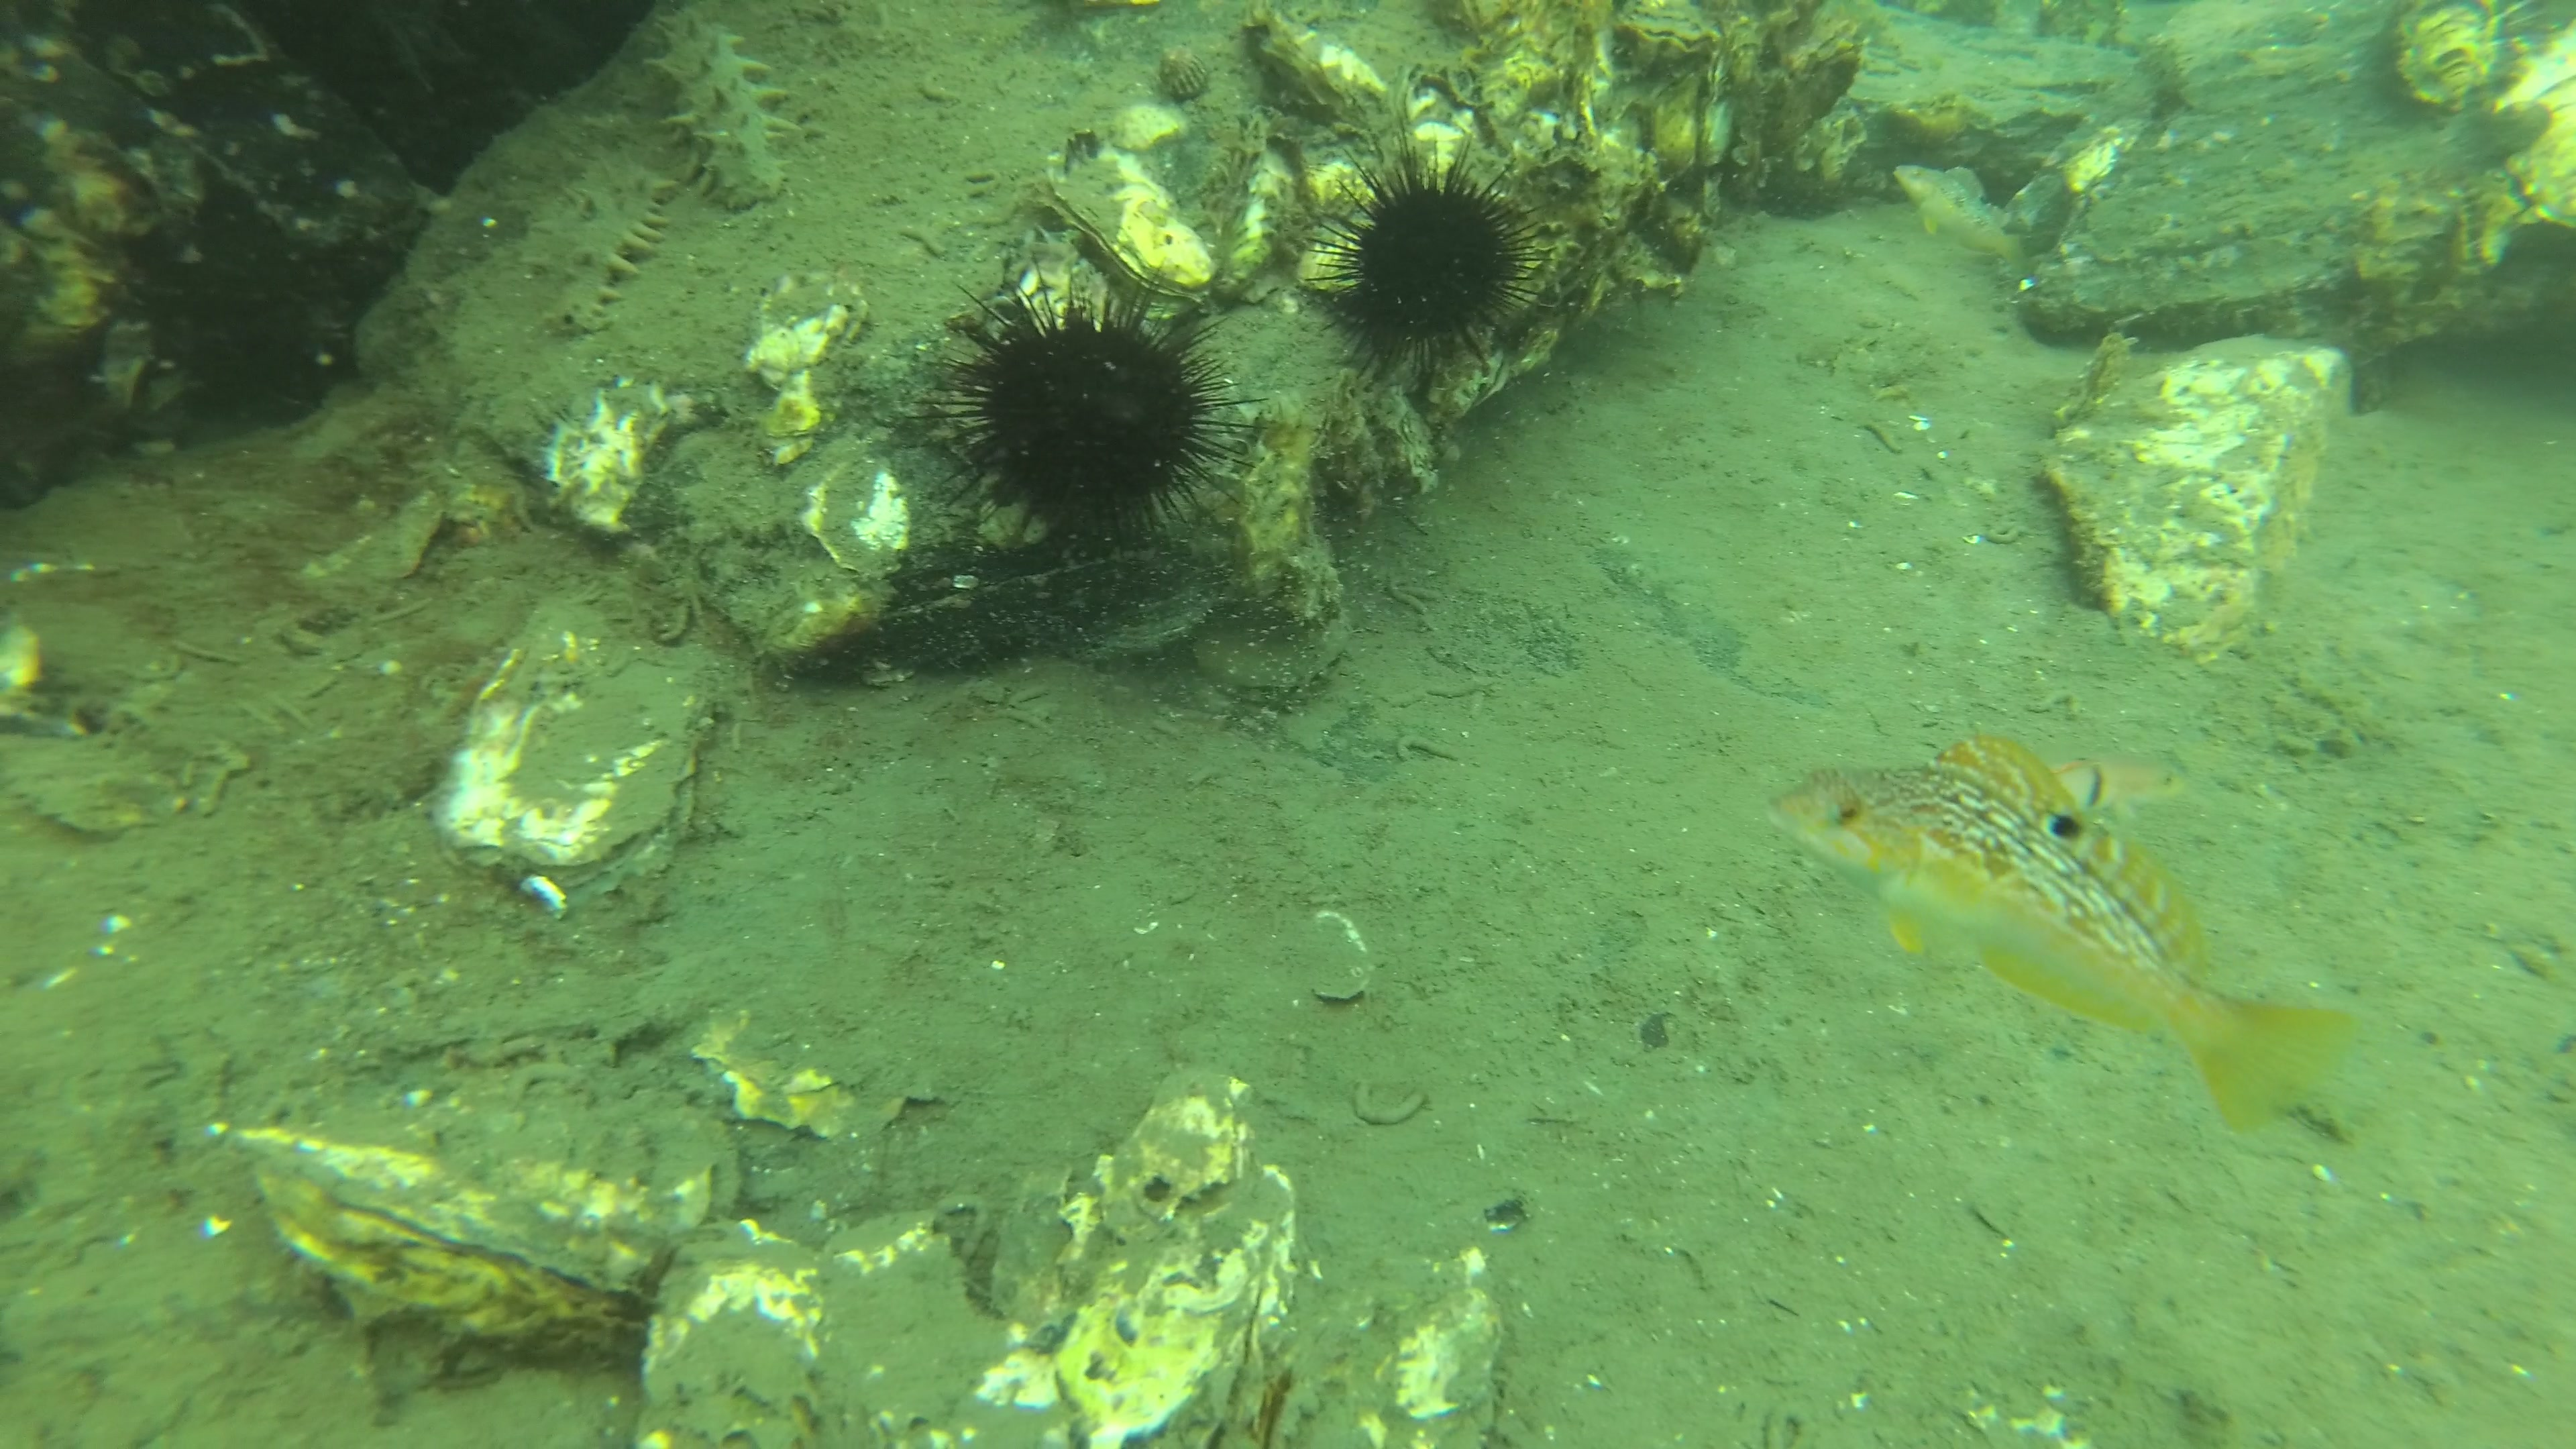echinus: (941, 280, 1254, 548), (1329, 129, 1560, 389)
holothurian: (644, 0, 807, 214), (538, 157, 679, 338)
